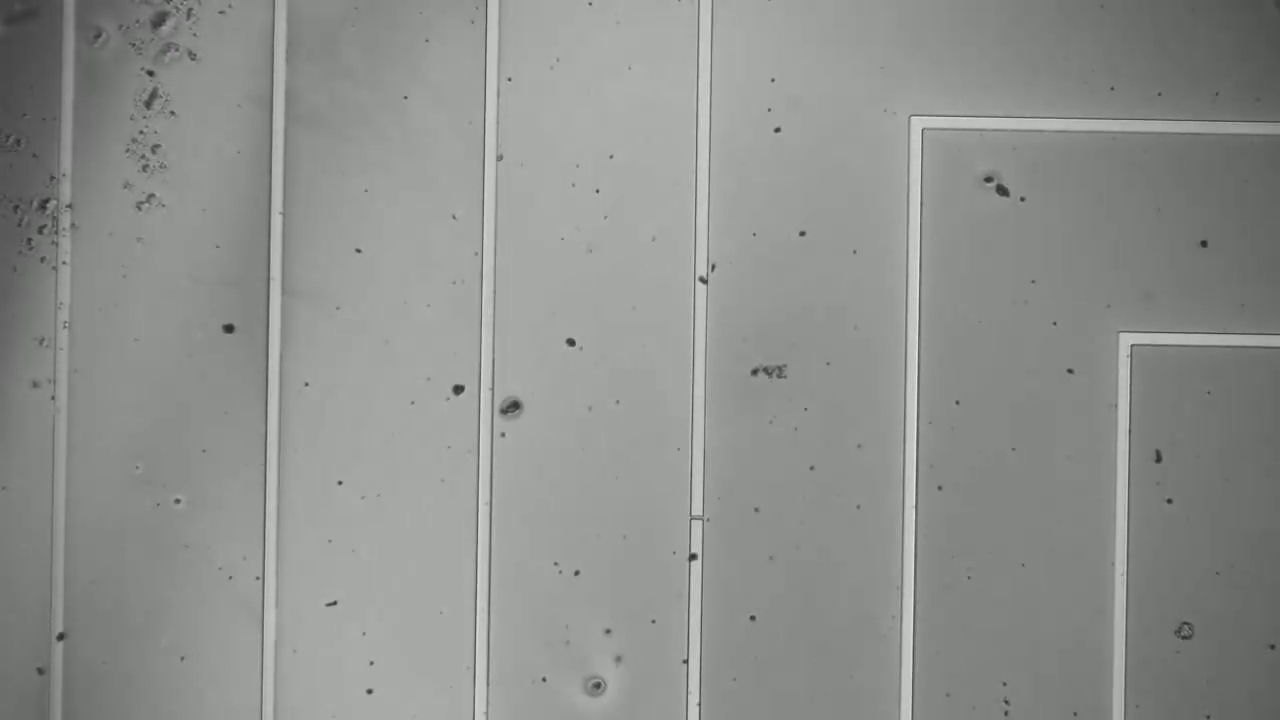open: (682, 503, 709, 528)
stains_enbedded: (47, 621, 76, 650), (687, 264, 716, 293), (682, 544, 713, 566)
